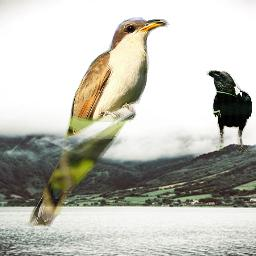Crow: (206, 70, 252, 153)
Cuckoo: (27, 14, 170, 231)
